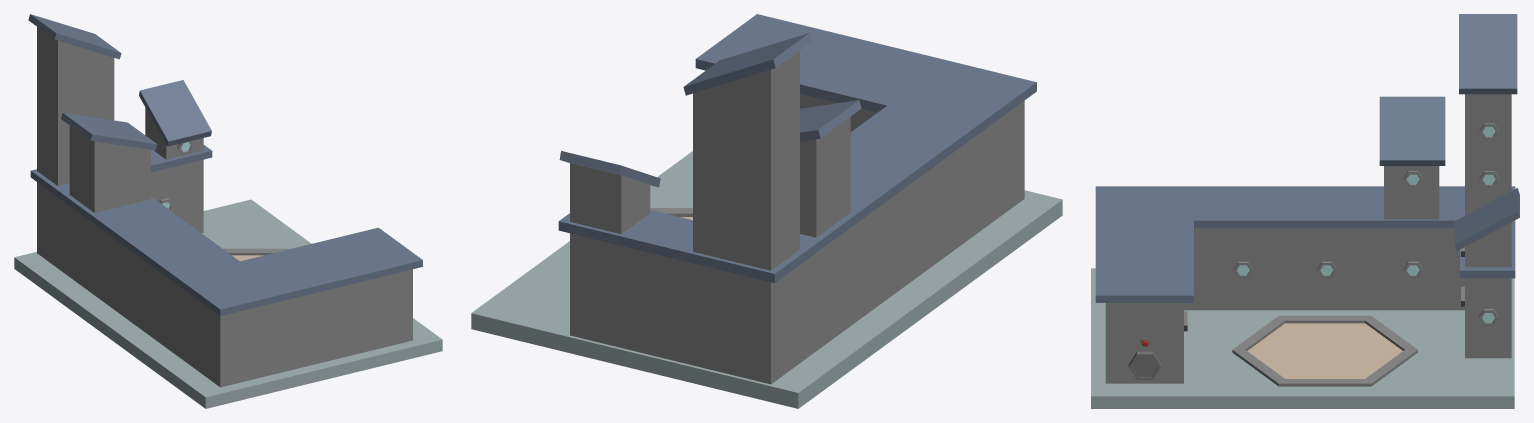
Rendered from usine militaire.fbx.
3 renders of one model, left to right at view 1: azimuth 30°, elevation 25°; view 2: azimuth 150°, elevation 25°; view 3: azimuth 270°, elevation 25°, orthographic. The views are drawn at different scales.
Visible parts, largest first — view 1: Cube.001, Cube.002, Cube, Cube.005, Cube.003, Cube.004, Cylinder.013; view 2: Cube.001, Cube.002, Cube, Cube.004, Cube.003, Cube.005; view 3: Cube.001, Cube, Cube.002, Cylinder.013, Cube.004, Cube.003, Cube.005, Cylinder.
Boxes of the visible parts, left/top/right/bottom form: Cube.001: left=37, top=27, right=412, bottom=387; Cube.002: left=30, top=145, right=422, bottom=316; Cube: left=14, top=199, right=442, bottom=408; Cube.005: left=139, top=80, right=211, bottom=146; Cube.003: left=61, top=113, right=157, bottom=150; Cube.004: left=28, top=14, right=121, bottom=59; Cylinder.013: left=223, top=248, right=290, bottom=261; Cube.001: left=570, top=50, right=1024, bottom=384; Cube.002: left=558, top=14, right=1036, bottom=283; Cube: left=471, top=151, right=1062, bottom=408; Cube.004: left=683, top=33, right=811, bottom=95; Cube.003: left=800, top=100, right=861, bottom=141; Cube.005: left=559, top=151, right=660, bottom=187; Cube.001: left=1105, top=94, right=1511, bottom=383; Cube: left=1091, top=268, right=1514, bottom=408; Cube.002: left=1095, top=186, right=1515, bottom=302; Cylinder.013: left=1232, top=315, right=1417, bottom=386; Cube.004: left=1459, top=14, right=1517, bottom=94; Cube.003: left=1379, top=96, right=1445, bottom=165; Cube.005: left=1454, top=188, right=1519, bottom=250; Cylinder: left=1128, top=351, right=1161, bottom=379.
Size of the model in its own units: 249 by 251 by 353.
